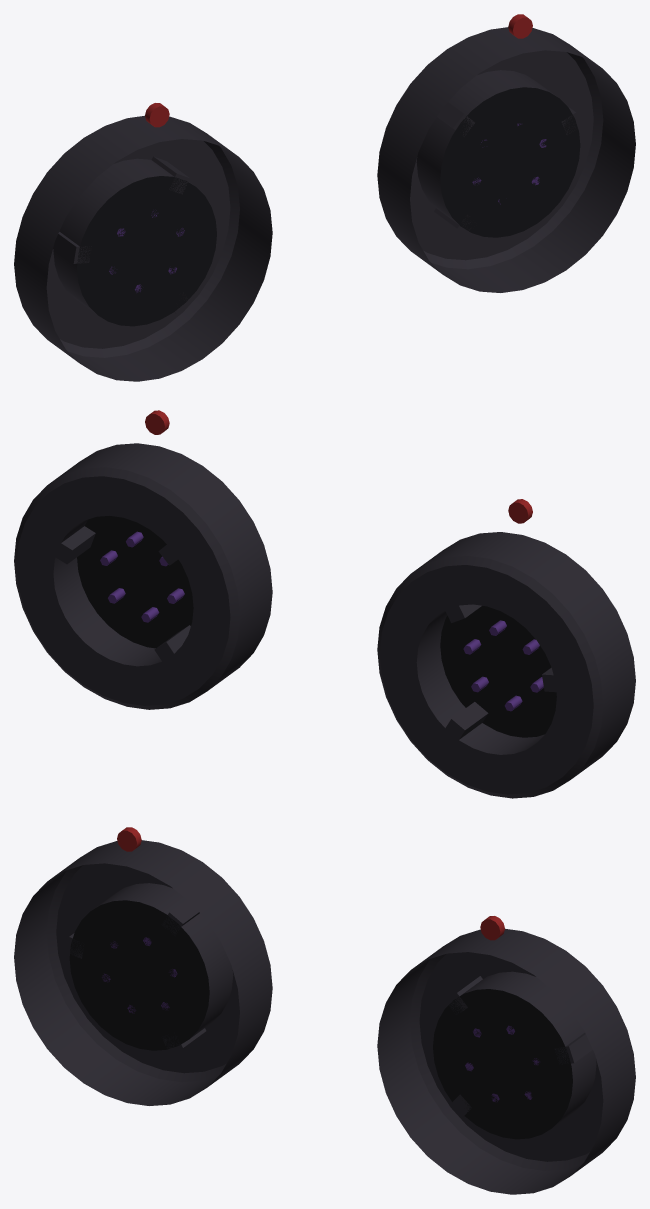
Rendered from z5_socket.obj.
The picture shows the model from 3 angles, top to bottom: view 1: azimuth 30°, elevation 25°; view 2: azimuth 150°, elevation 25°; view 3: azimuth 330°, elevation 25°; orthographic projection.
Parts seen in each view (by area): view 1: z5_socket; view 2: z5_socket; view 3: z5_socket.
Part boxes in pixels (x1,y1,x2,y2): z5_socket: [14, 14, 635, 381]; z5_socket: [14, 410, 635, 798]; z5_socket: [14, 827, 635, 1194].
Bounding box in the file's own units: 1.46 × 0.645 × 0.155.
